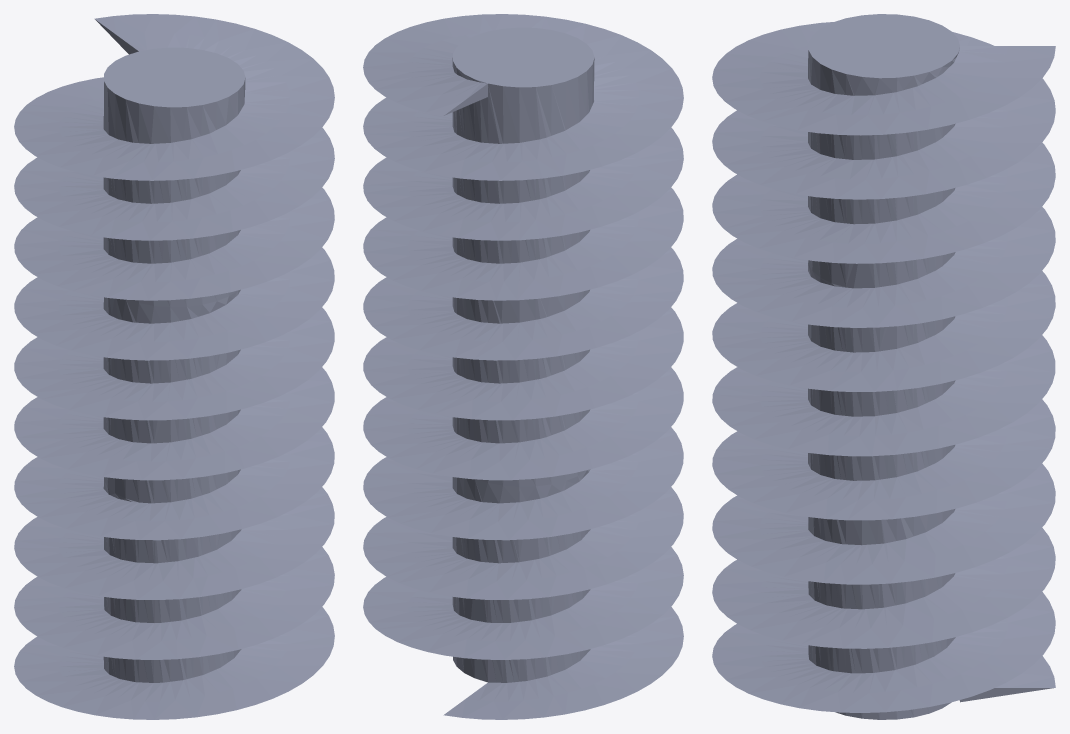
3 renders of one model, left to right at view 1: azimuth 30°, elevation 25°; view 2: azimuth 150°, elevation 25°; view 3: azimuth 270°, elevation 25°, orthographic. The views are drawn at different scales.
Visible parts, largest first — view 1: mesh_1_twister; view 2: mesh_1_twister; view 3: mesh_1_twister.
Part boxes in pixels (x1,y1,x2,y2): mesh_1_twister: [14, 14, 334, 719]; mesh_1_twister: [363, 14, 683, 719]; mesh_1_twister: [712, 14, 1055, 719].
Size of the model in its own units: 0.5825 by 1.23 by 0.5825.
